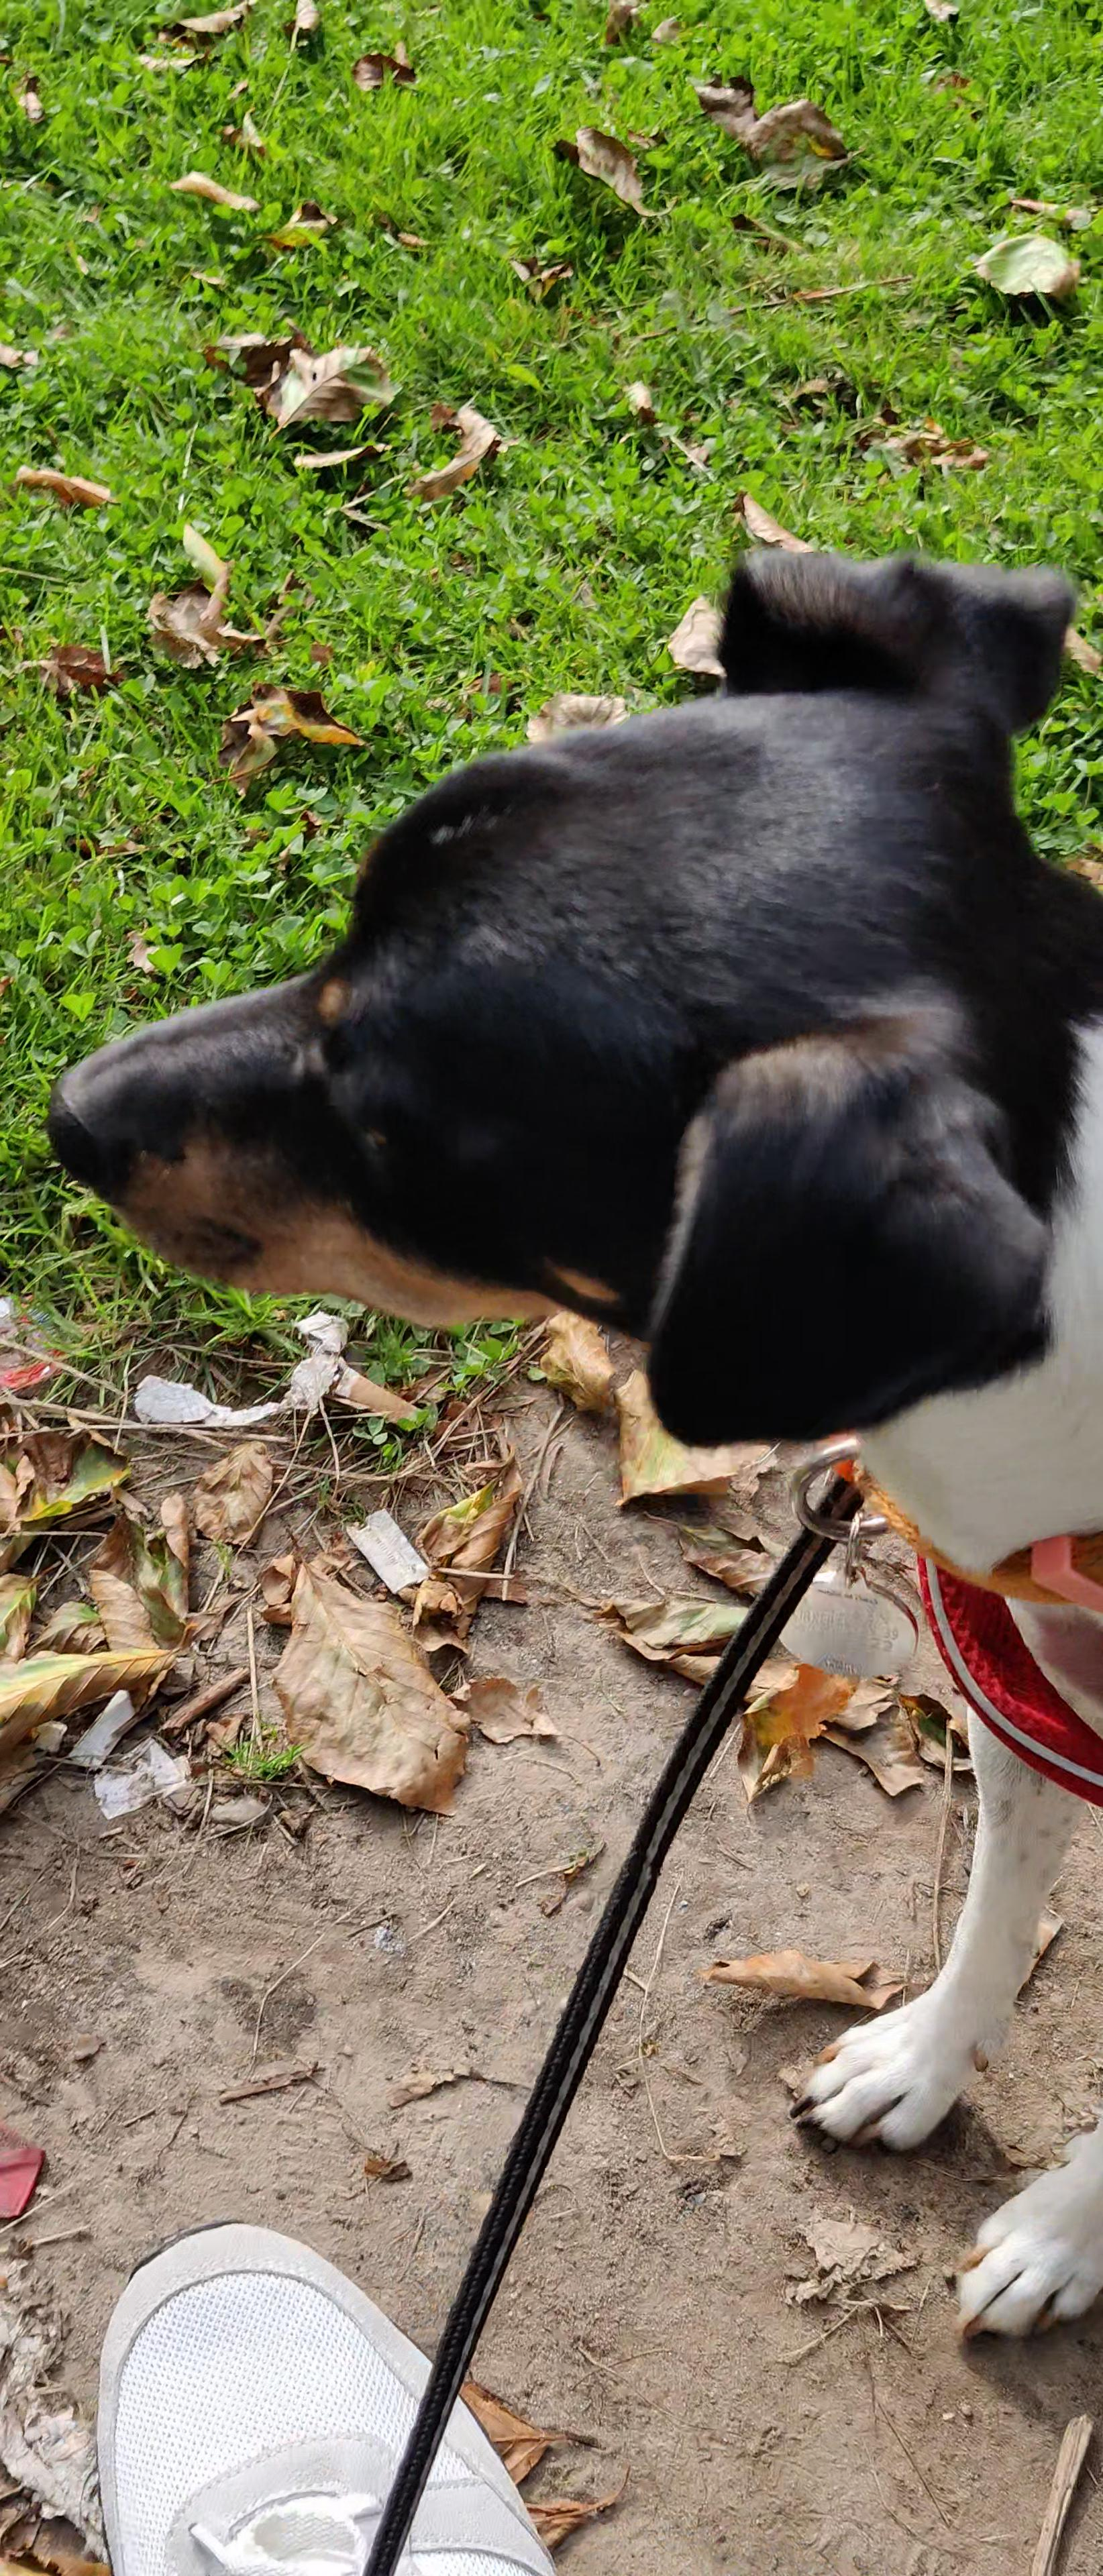Dog: (35, 527, 1103, 2362)
